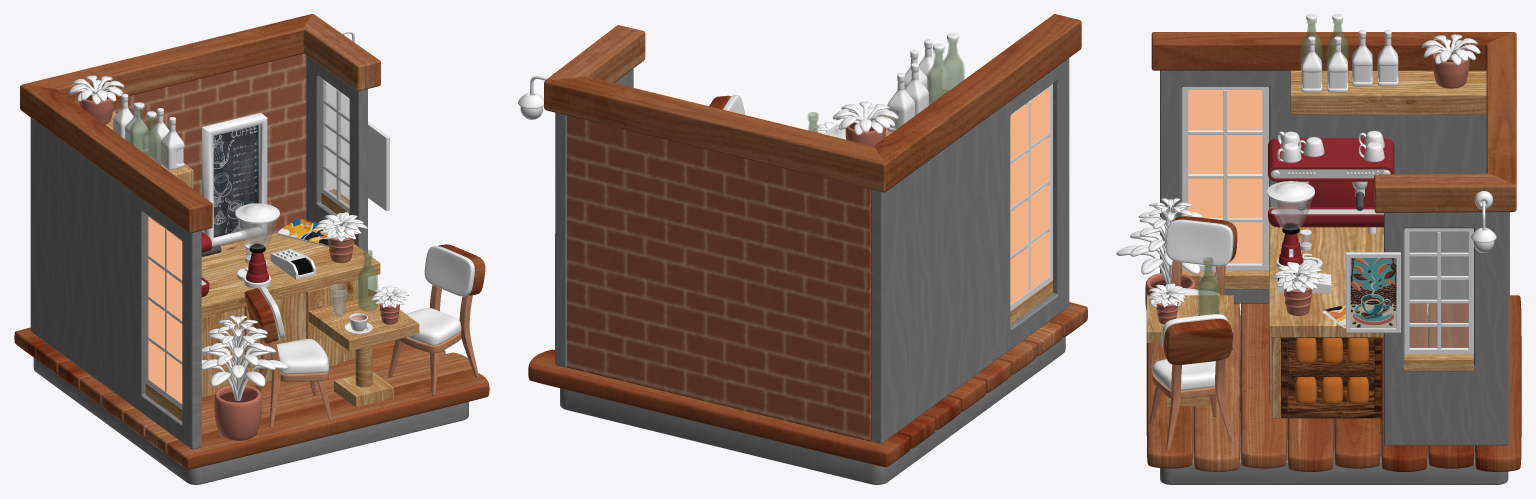
3 renders of one model, left to right at view 1: azimuth 30°, elevation 25°; view 2: azimuth 150°, elevation 25°; view 3: azimuth 270°, elevation 25°, orthographic. The views are drawn at different scales.
Parts seen in each view (by area): view 1: Plane.004, Plane.005, Plane, Plane.002, Plane.001, Plane.009, Plane.003, Plane.029, Plane.176, Plane.190, Plane.011, Plane.189 (+30 smaller); view 2: Plane.002, Plane.004, Plane.005, Plane, Plane.001, Plane.029, Plane.003, Plane.008, Plane.188, Circle.043, Plane.185, Circle.041 (+2 smaller); view 3: Plane, Plane.005, Plane.004, Plane.003, Plane.029, Plane.012, Plane.009, Plane.001, Plane.027, Plane.006, Plane.191, Plane.037 (+39 smaller).
Part boxes in pixels (left/top/right/bottom): Plane.004: left=30, top=118, right=201, bottom=449; Plane.005: left=20, top=14, right=380, bottom=233; Plane: left=14, top=289, right=489, bottom=469; Plane.002: left=113, top=54, right=306, bottom=246; Plane.001: left=33, top=357, right=468, bottom=484; Plane.009: left=162, top=233, right=380, bottom=322; Plane.003: left=306, top=55, right=367, bottom=253; Plane.029: left=148, top=217, right=182, bottom=403; Plane.176: left=152, top=277, right=367, bottom=397; Plane.190: left=213, top=125, right=258, bottom=237; Plane.011: left=308, top=296, right=419, bottom=351; Plane.189: left=202, top=113, right=267, bottom=246; Plane.002: left=567, top=115, right=870, bottom=441; Plane.004: left=871, top=58, right=1069, bottom=443; Plane.005: left=544, top=14, right=1081, bottom=192; Plane: left=528, top=302, right=1087, bottom=467; Plane.001: left=560, top=337, right=1065, bottom=484; Plane.029: left=1010, top=87, right=1049, bottom=304; Plane.003: left=555, top=69, right=633, bottom=367; Plane.008: left=1010, top=84, right=1052, bottom=310; Plane.188: left=887, top=73, right=914, bottom=132; Circle.043: left=927, top=50, right=950, bottom=105; Plane.185: left=919, top=39, right=941, bottom=101; Circle.041: left=943, top=39, right=964, bottom=89; Plane: left=1146, top=295, right=1521, bottom=471; Plane.005: left=1151, top=32, right=1516, bottom=213; Plane.004: left=1160, top=70, right=1486, bottom=303; Plane.003: left=1384, top=212, right=1509, bottom=445; Plane.029: left=1188, top=90, right=1262, bottom=263; Plane.012: left=1290, top=70, right=1486, bottom=114; Plane.009: left=1269, top=207, right=1383, bottom=337; Plane.001: left=1160, top=315, right=1508, bottom=484; Plane.027: left=1410, top=232, right=1468, bottom=347; Plane.006: left=1281, top=337, right=1381, bottom=418; Plane.191: left=1350, top=258, right=1396, bottom=328; Plane.037: left=1268, top=138, right=1394, bottom=181.
Bounding box in the file's own units: 9.5 × 8.58 × 9.31.
Materials: 34 (11 with a texture image).
